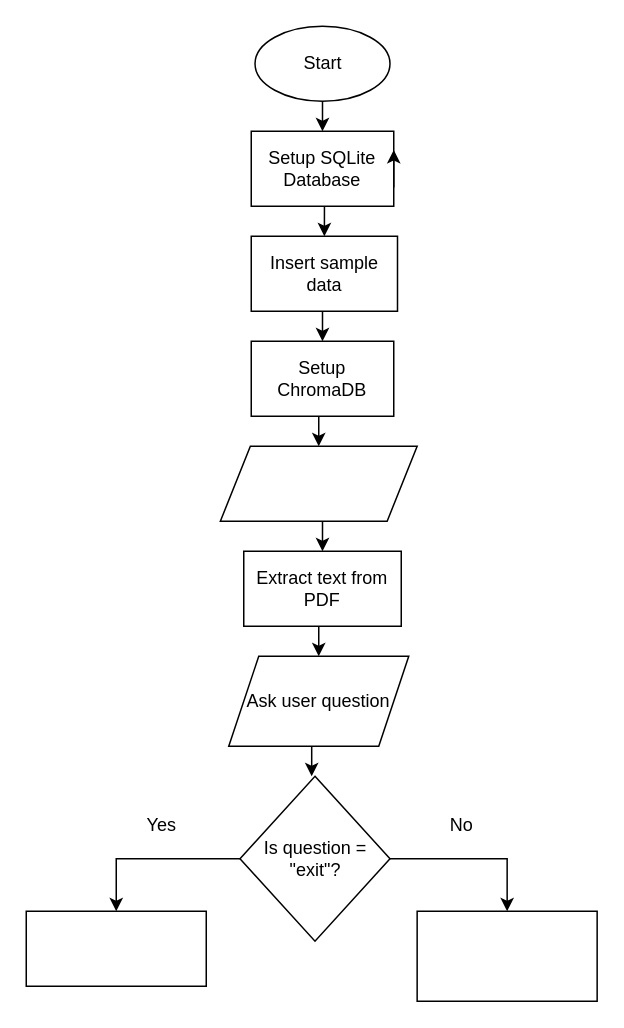
This 624x1028 diagram has some shape labels left out. Here are the shapes that lost their labels. From the top down, the centre of each, then its label:
At point 318,483: "Input PDF file path".
At point 115,948: "Exit".
At point 506,955: "Insert question into SQLite DB and display answers".
